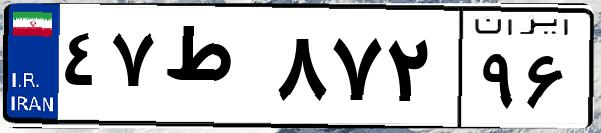2: (385, 28, 445, 110)
4: (57, 26, 110, 100)
6: (525, 38, 570, 115)
7: (330, 28, 385, 110), (110, 28, 158, 98)
8: (270, 28, 330, 110)
9: (475, 38, 525, 113)
ط: (158, 20, 270, 120)
